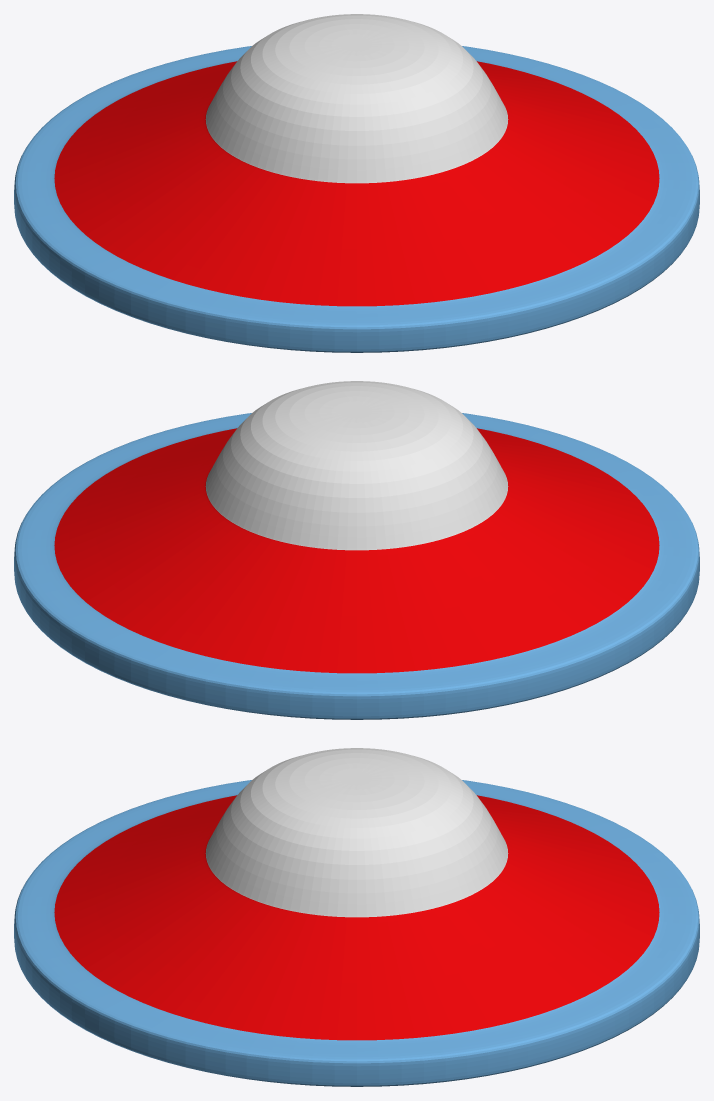
File: Ufo.fbx
The picture shows the model from 3 angles, top to bottom: view 1: azimuth 30°, elevation 25°; view 2: azimuth 150°, elevation 25°; view 3: azimuth 270°, elevation 25°; orthographic projection.
Visible parts, largest first — view 1: Circle; view 2: Circle; view 3: Circle.
Part boxes in pixels (x1,y1,x2,y2): Circle: (14, 14, 699, 352); Circle: (14, 381, 699, 719); Circle: (14, 748, 699, 1086).
Bounding box in the file's own units: 295 × 115 × 295.
